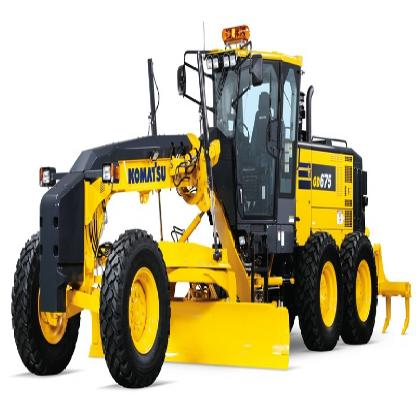bull_dozer/loader/grader: (10, 36, 403, 390)
